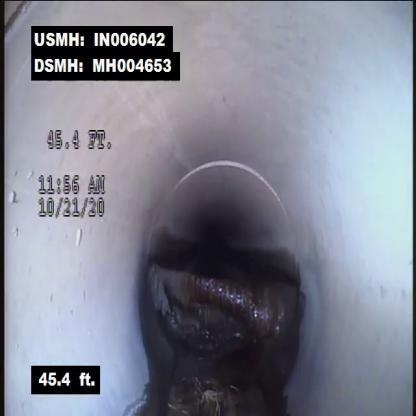Obstacle: (134, 252, 310, 389)
